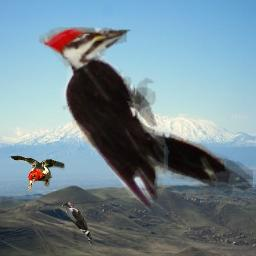Cuckoo: (62, 202, 95, 246)
Woodpecker: (39, 27, 253, 212), (7, 152, 65, 192)
